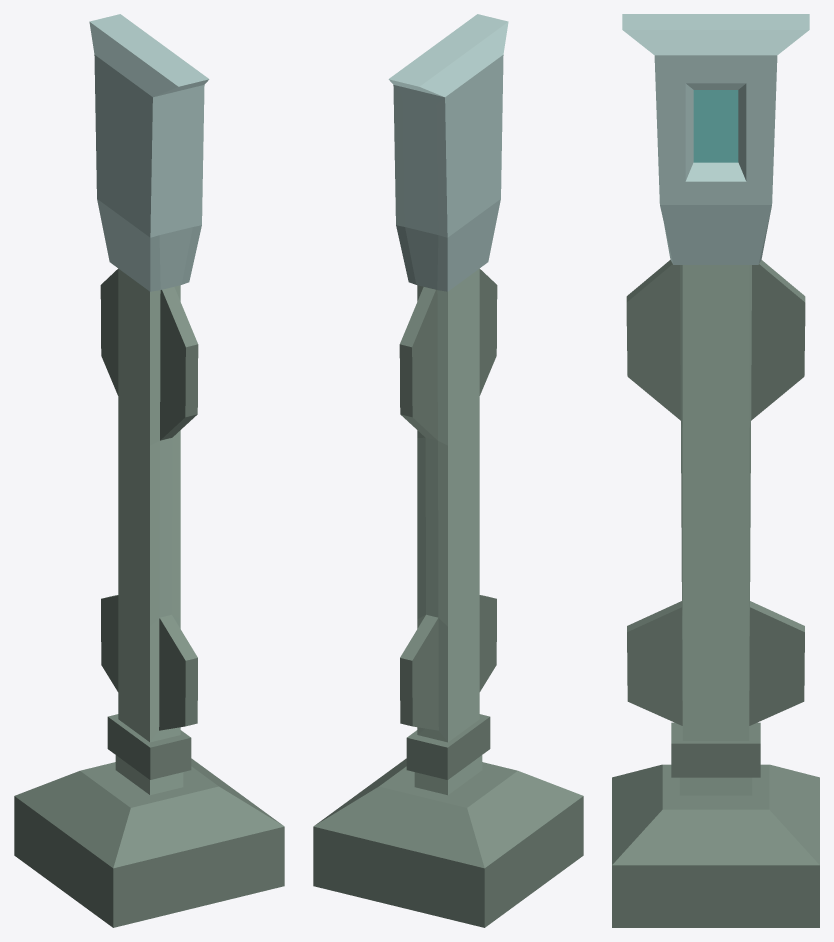
The model's file is OutpostFence.fbx.
3 views of the same model, side by side, from view 1: azimuth 30°, elevation 25°; view 2: azimuth 150°, elevation 25°; view 3: azimuth 270°, elevation 25° (orthographic). The views are drawn at different scales.
Visible parts, largest first — view 1: Cube; view 2: Cube; view 3: Cube.
Part boxes in pixels (left/top/right/bottom): Cube: left=14, top=14, right=284, bottom=927; Cube: left=313, top=14, right=583, bottom=927; Cube: left=612, top=14, right=819, bottom=927.
Size of the model in its own units: 287 by 1314 by 287.
